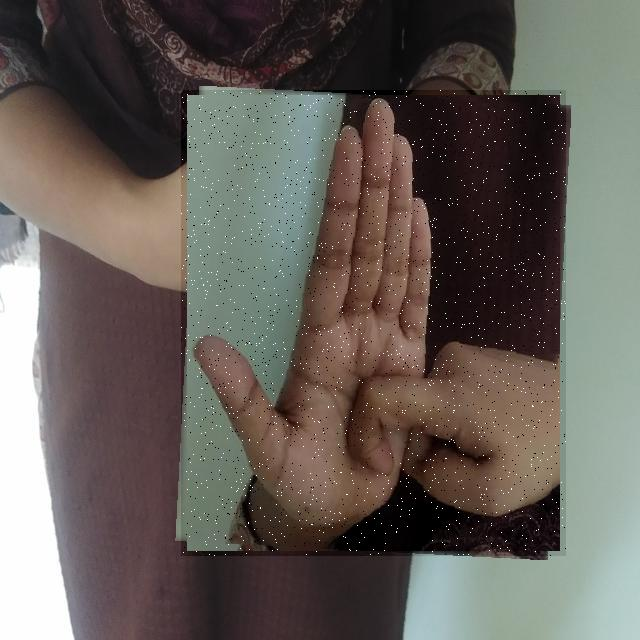R: (181, 90, 566, 556)
